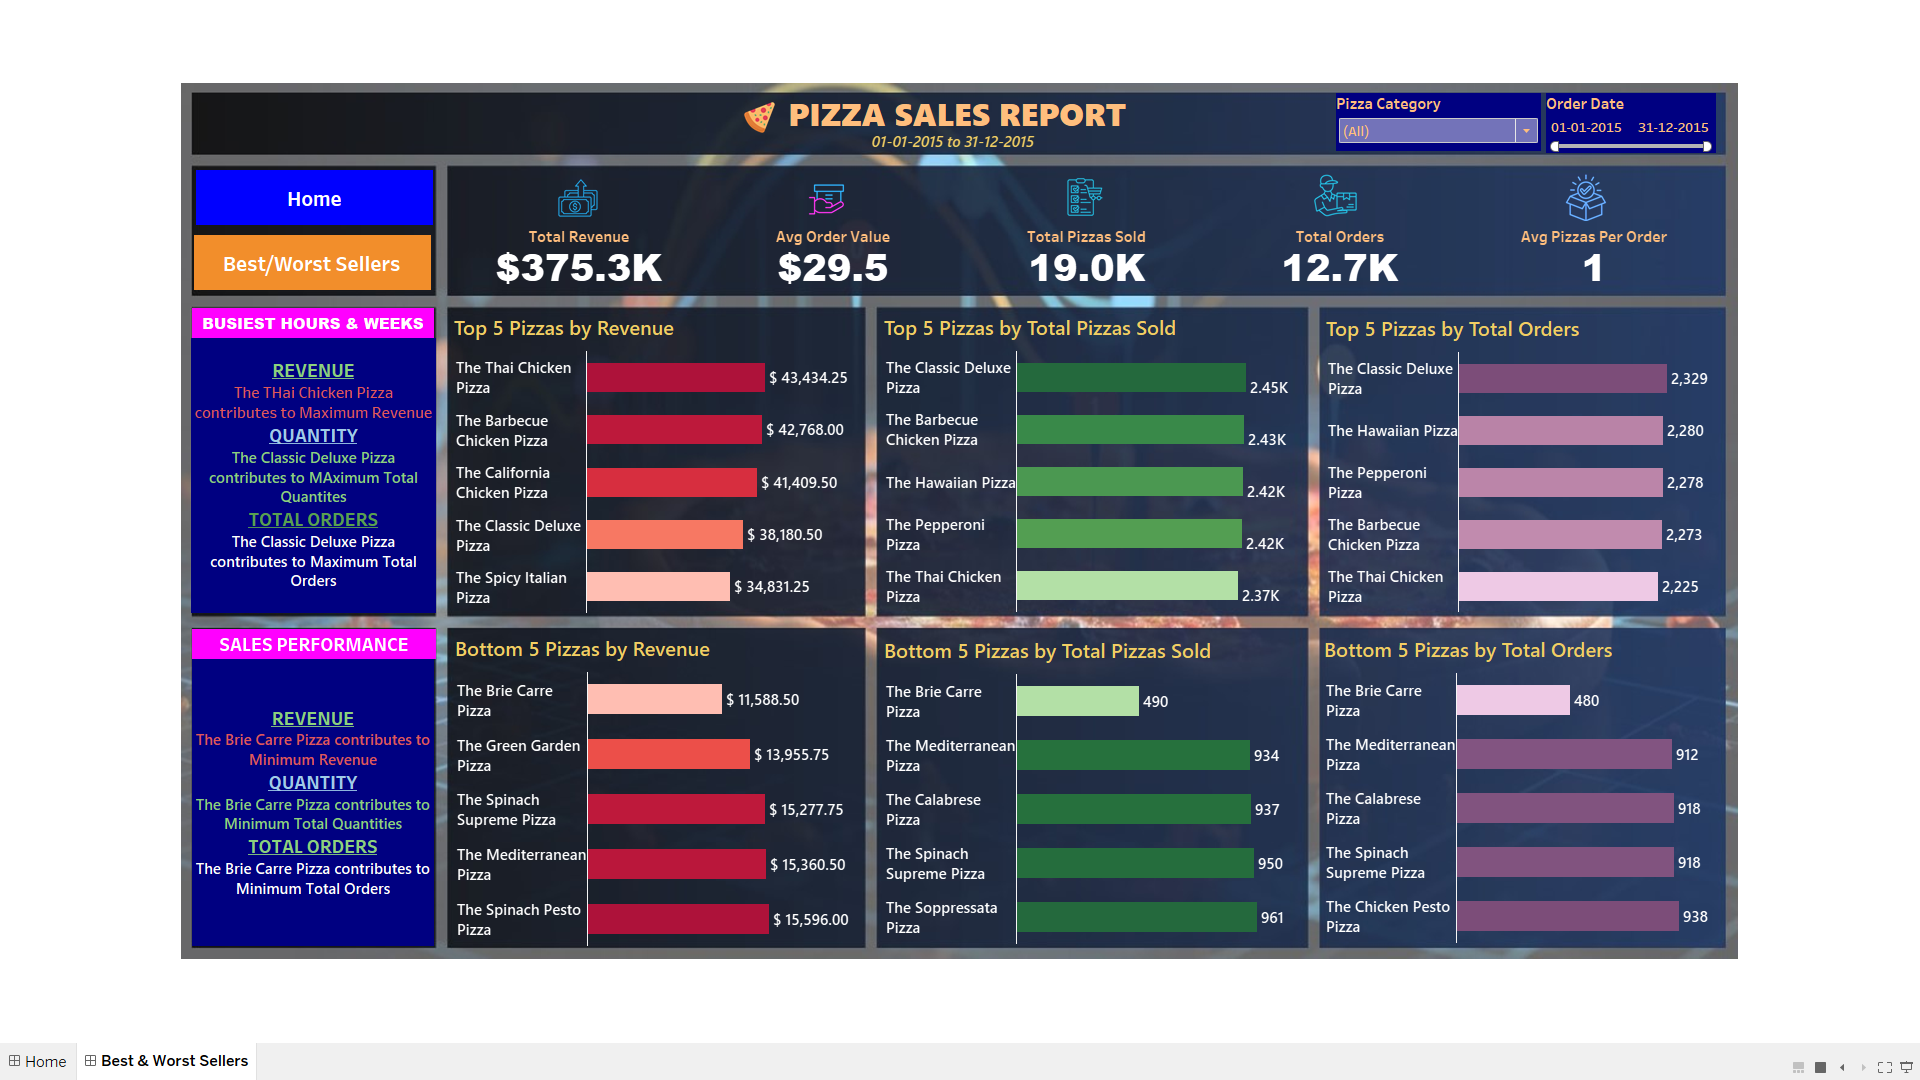

The page's visual inventory and layout, read from the dashboard file:
{"tool":"tableau","page":{"name":"Best & Worst Sellers","canvas":[1600,900],"ordinal":0},"visuals":[{"type":"image","param":"Image/Pizza Tableau 2.jpg","box":[8,8,1584,884]},{"type":"text","box":[625,20,345,43]},{"type":"filter","title":"Sheet 1","param":"[federated.1wnhv0o0sv3yva10nrp8a0km7x5o].[none:pizza_category:nk]","box":[1176,22,205,58]},{"type":"filter","title":"Sheet 1","param":"[federated.1wnhv0o0sv3yva10nrp8a0km7x5o].[none:order_date:qk]","box":[1386,22,170,60]},{"type":"image","param":"Image/pizza-slice.png","box":[580,30,39,32]},{"type":"worksheet","title":"Sheet 7","mark":"Automatic","box":[675,59,235,21]},{"type":"dashboard-object","box":[36,99,237,55]},{"type":"image","param":"Image/delivery-man.png","box":[1152,102,47,44]},{"type":"image","param":"Image/order (1).png","box":[1402,103,47,47]},{"type":"image","param":"Image/profit-growth.png","box":[389,104,57,45]},{"type":"image","param":"Image/order-delivery.png","box":[902,106,45,39]},{"type":"image","param":"Image/shipping-box.png","box":[606,108,121,40]},{"type":"worksheet","title":"Sheet 1","mark":"Automatic","box":[292,155,1269,61]},{"type":"dashboard-object","box":[34,164,237,55]},{"type":"text","box":[32,237,242,30]},{"type":"worksheet","title":"top 5","mark":"Automatic","rows":["pizza_name"],"cols":["Calculation_1900800524969738240"],"box":[290,238,411,304]},{"type":"worksheet","title":"top 5 by total pizzas sold","mark":"Automatic","rows":["pizza_name"],"cols":["Calculation_1900800524970618883"],"box":[720,238,424,303]},{"type":"worksheet","title":"top 5 by total orders","mark":"Automatic","rows":["pizza_name"],"cols":["Calculation_1900800524970180609"],"box":[1162,239,401,302]},{"type":"text","box":[31,267,245,275]},{"type":"text","box":[32,558,244,30]},{"type":"worksheet","title":"bottom 5","mark":"Automatic","rows":["pizza_name"],"cols":["Calculation_1900800524969738240"],"box":[291,559,411,316]},{"type":"worksheet","title":"bottom 5 by total orders (2)","mark":"Automatic","rows":["pizza_name"],"cols":["Calculation_1900800524970180609"],"box":[1160,560,404,312]},{"type":"worksheet","title":"bottom 5 by total pizzas sold (2)","mark":"Automatic","rows":["pizza_name"],"cols":["Calculation_1900800524970618883"],"box":[720,561,423,312]},{"type":"text","box":[32,588,242,287]}]}

Visuals, with their boxes on the page's 1600x900 design canvas (x1, y1, x2, y2). These are canvas units, not pixel positions in the 1920x1080 screenshot, which may show the page scaled, cropped or inside an application window:
image: bbox=(8, 8, 1592, 892)
text: bbox=(625, 20, 970, 63)
"Sheet 1" filter: bbox=(1176, 22, 1381, 80)
"Sheet 1" filter: bbox=(1386, 22, 1556, 82)
image: bbox=(580, 30, 619, 62)
"Sheet 7" worksheet: bbox=(675, 59, 910, 80)
dashboard-object: bbox=(36, 99, 273, 154)
image: bbox=(1152, 102, 1199, 146)
image: bbox=(1402, 103, 1449, 150)
image: bbox=(389, 104, 446, 149)
image: bbox=(902, 106, 947, 145)
image: bbox=(606, 108, 727, 148)
"Sheet 1" worksheet: bbox=(292, 155, 1561, 216)
dashboard-object: bbox=(34, 164, 271, 219)
text: bbox=(32, 237, 274, 267)
"top 5" worksheet: bbox=(290, 238, 701, 542)
"top 5 by total pizzas sold" worksheet: bbox=(720, 238, 1144, 541)
"top 5 by total orders" worksheet: bbox=(1162, 239, 1563, 541)
text: bbox=(31, 267, 276, 542)
text: bbox=(32, 558, 276, 588)
"bottom 5" worksheet: bbox=(291, 559, 702, 875)
"bottom 5 by total orders (2)" worksheet: bbox=(1160, 560, 1564, 872)
"bottom 5 by total pizzas sold (2)" worksheet: bbox=(720, 561, 1143, 873)
text: bbox=(32, 588, 274, 875)
